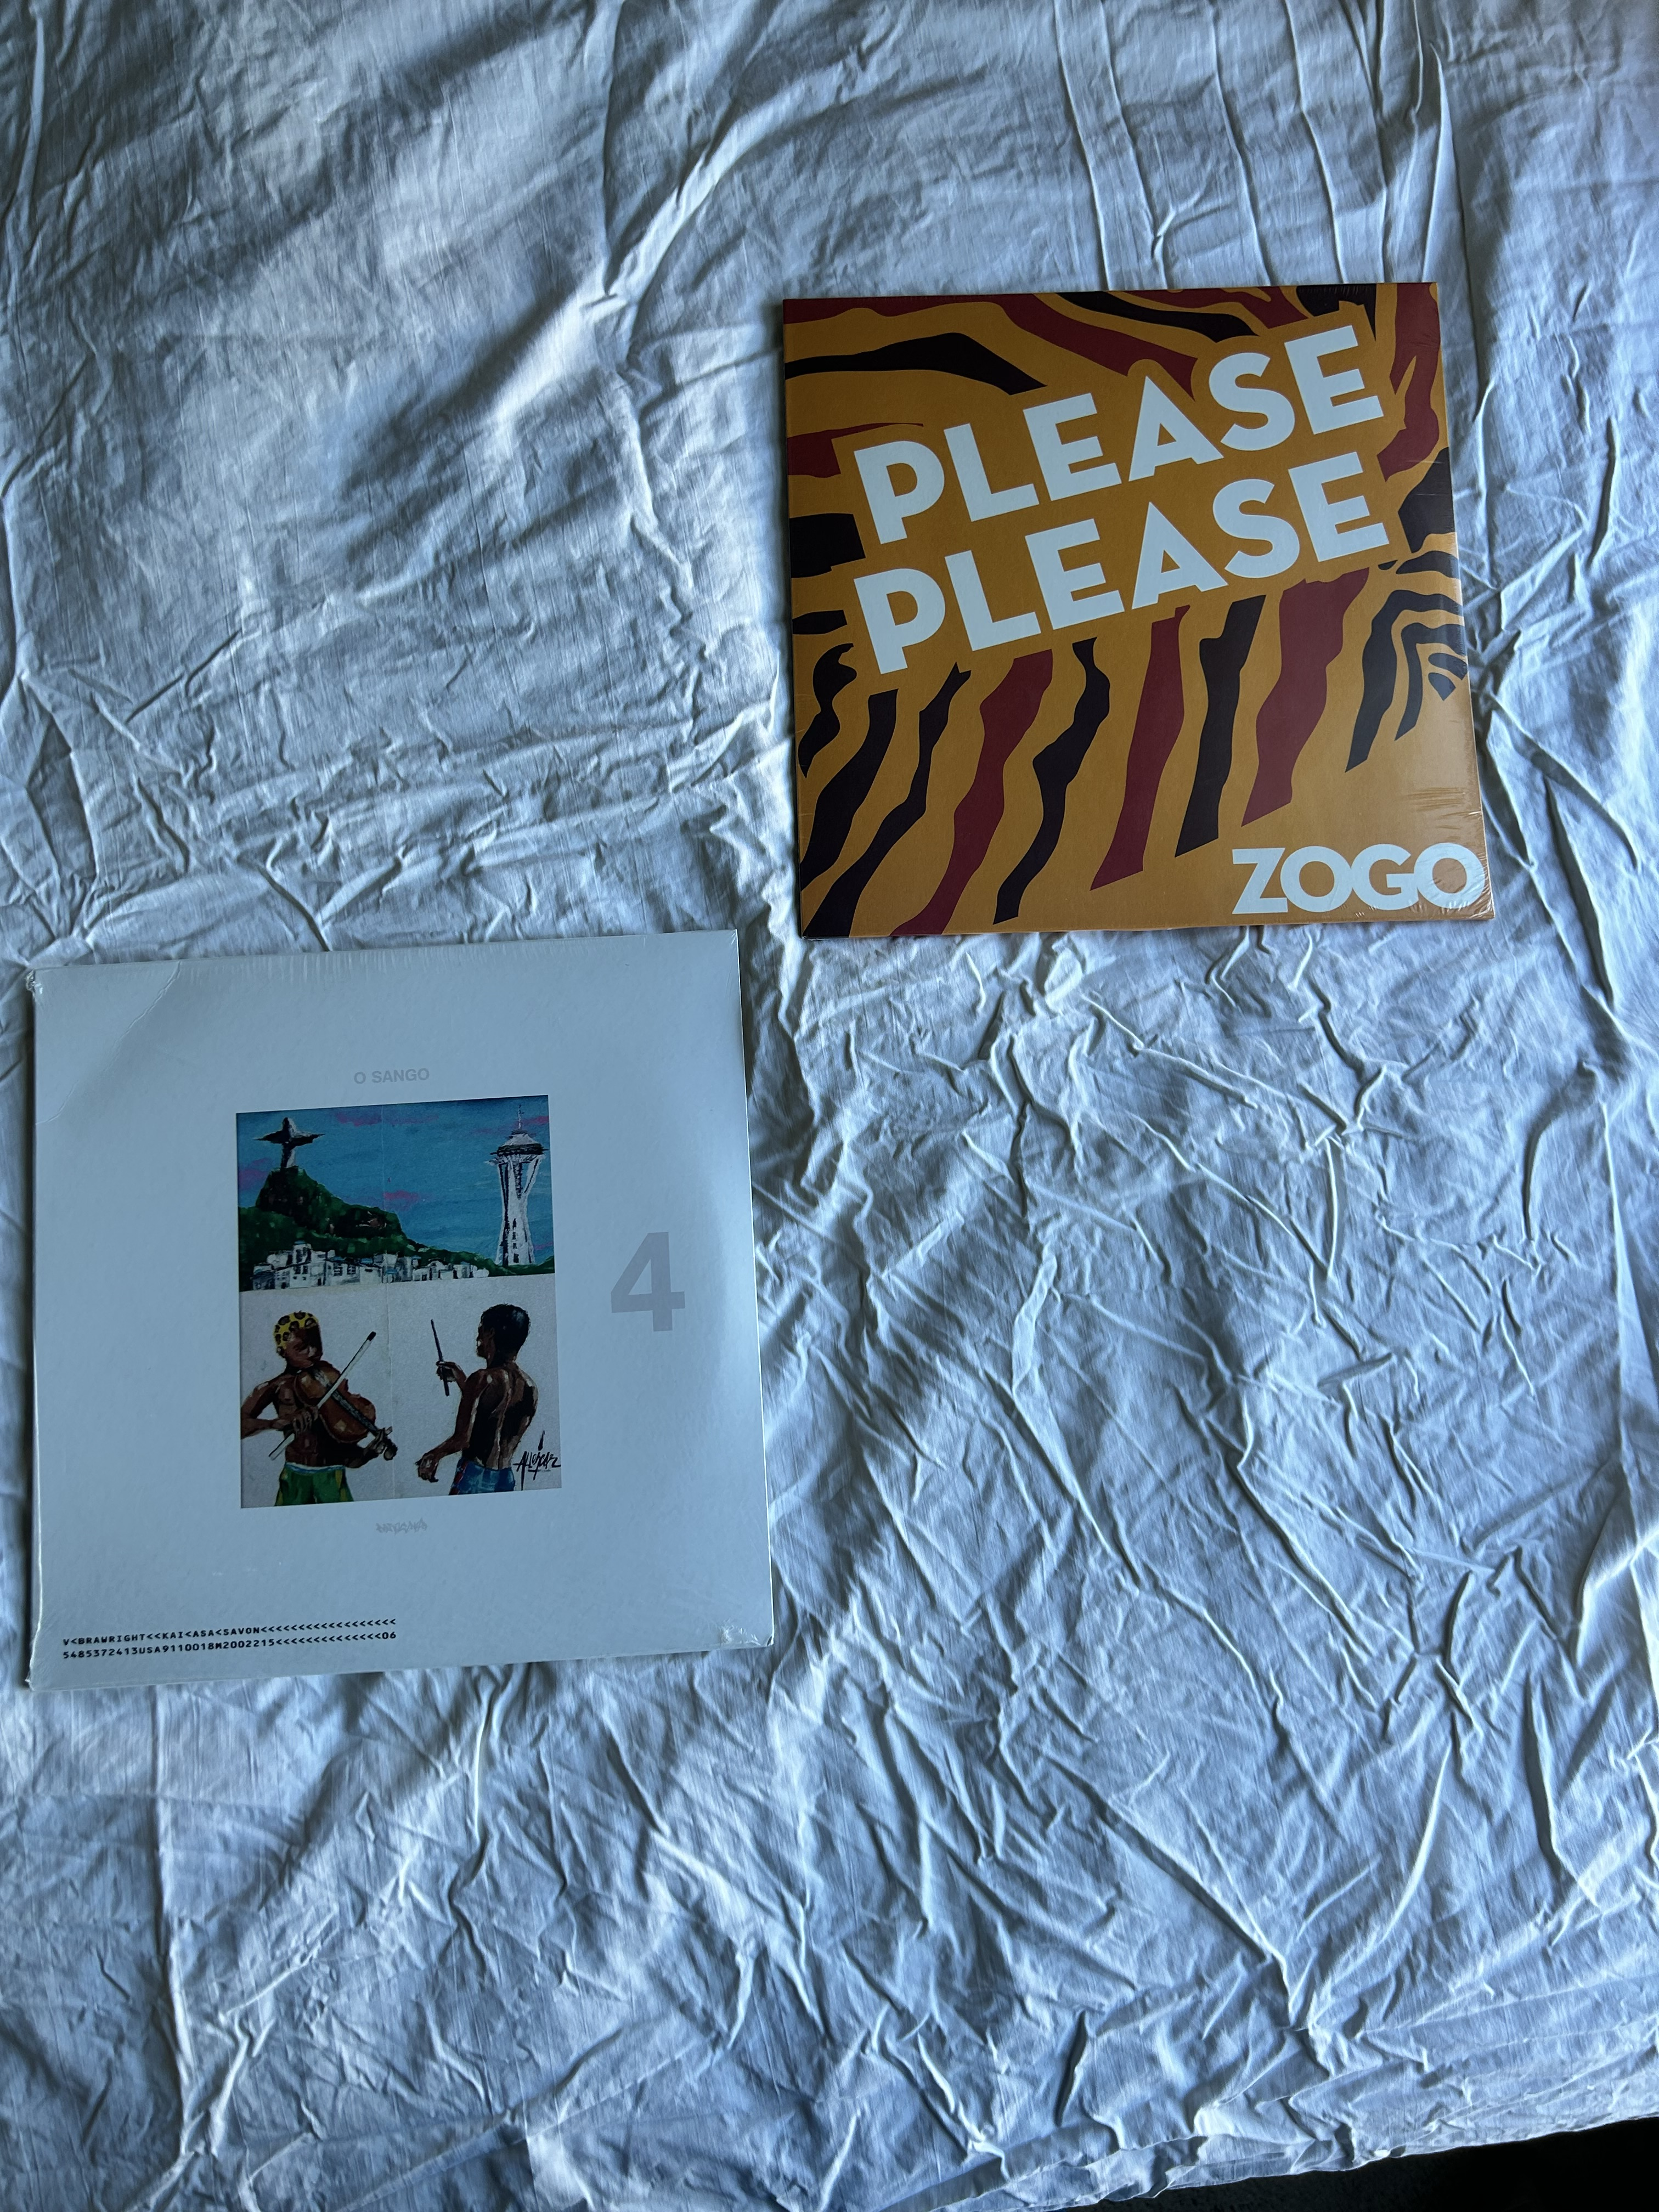sango_da rocinha 4: (19, 951, 760, 1669)
zogo_please please: (765, 296, 1459, 951)
